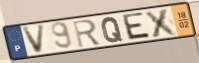9: (51, 21, 75, 52)
E: (122, 11, 153, 41)
Q: (100, 16, 125, 44)
R: (72, 18, 103, 49)
V: (21, 23, 46, 55)
X: (143, 7, 180, 39)
